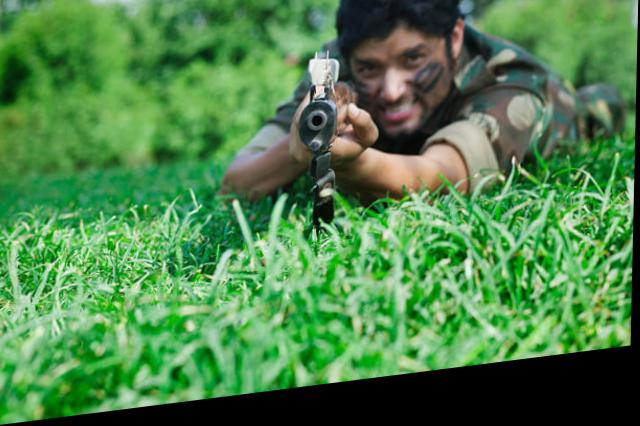other: (248, 0, 582, 227)
